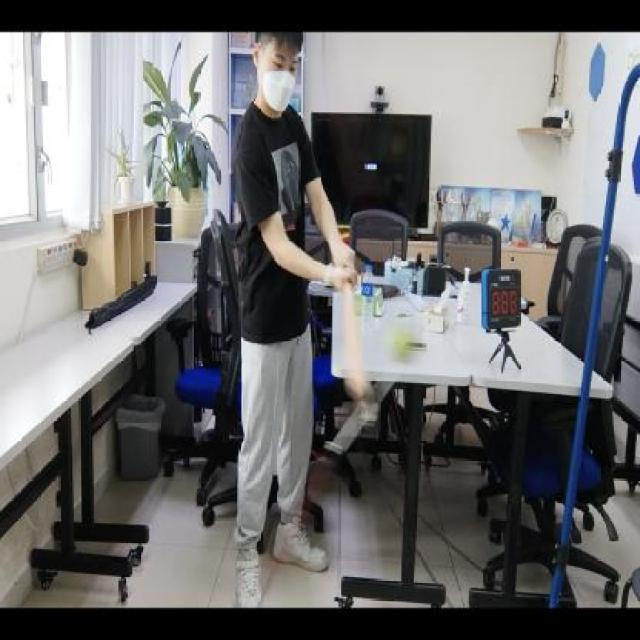baseball: (389, 326, 416, 366)
